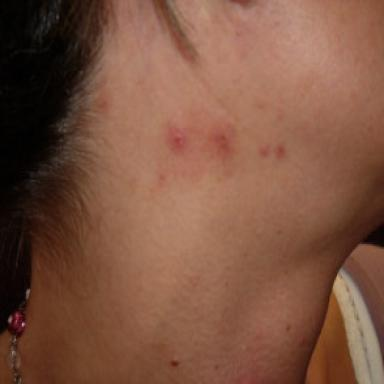acne: (203, 124, 235, 154), (167, 126, 187, 153), (259, 143, 271, 157), (275, 144, 286, 159), (100, 93, 109, 108)
